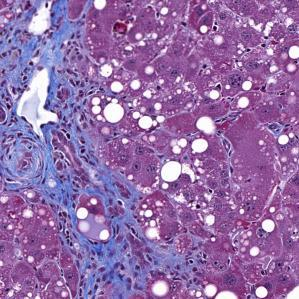fibrosis: (55, 200, 163, 299), (0, 118, 112, 202), (0, 3, 94, 76)
